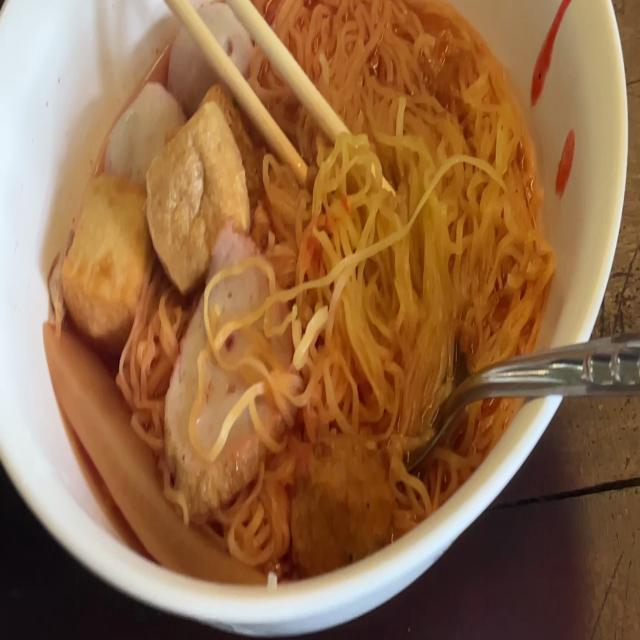crunchy_squid: (45, 318, 266, 596)
egg_noodles: (248, 0, 550, 478)
fish_ball: (167, 0, 251, 115), (108, 83, 186, 193)
fried_fish_balls: (167, 228, 293, 503)
fried_tofu: (150, 87, 256, 273)
noodle: (39, 0, 553, 589)
tofu: (58, 170, 150, 334)
